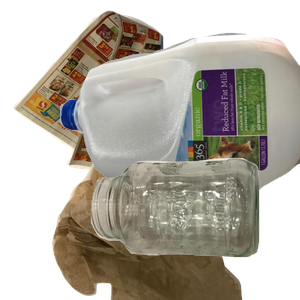glass: (88, 156, 300, 300)
paper: (10, 10, 217, 189)
plastic: (60, 30, 300, 210)
trash: (50, 120, 285, 300)
